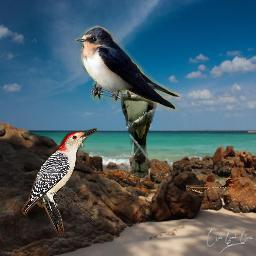Cuckoo: (101, 62, 157, 178)
Swallow: (75, 25, 180, 113), (186, 178, 235, 196)
Woodpecker: (21, 128, 97, 237)
